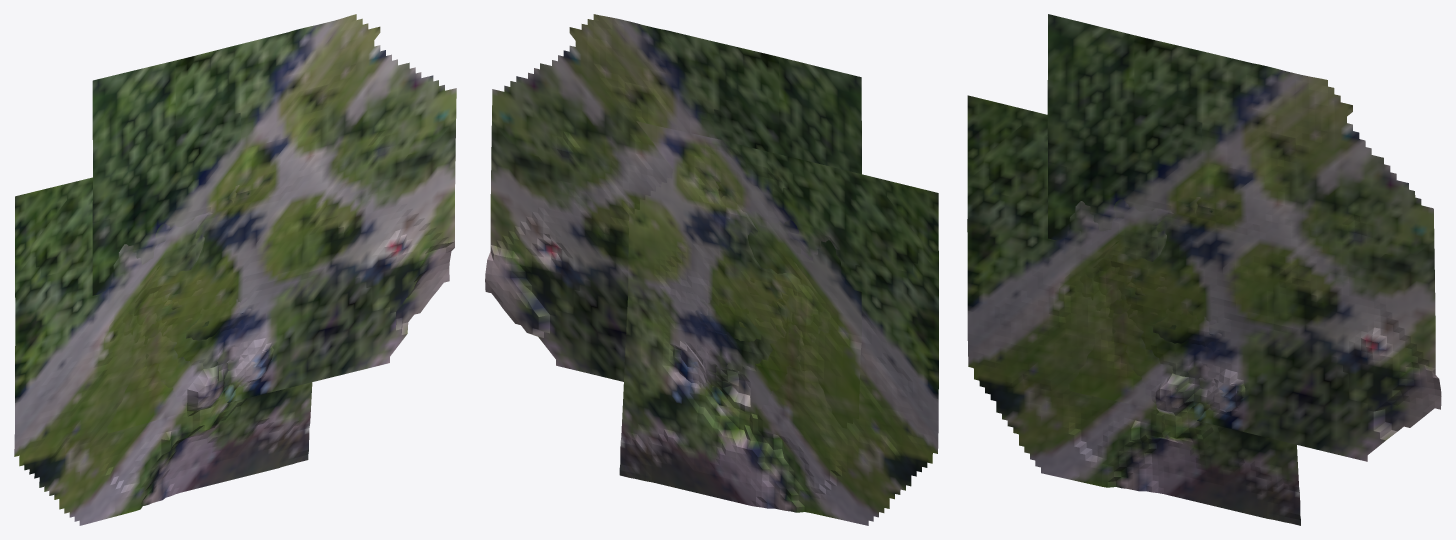
The model's file is combined.obj.
The picture shows the model from 3 angles, left to right: view 1: azimuth 30°, elevation 25°; view 2: azimuth 150°, elevation 25°; view 3: azimuth 330°, elevation 25°; orthographic projection. The views are drawn at different scales.
Size of the model in its own units: 99.3 by 95.03 by 6.15.
